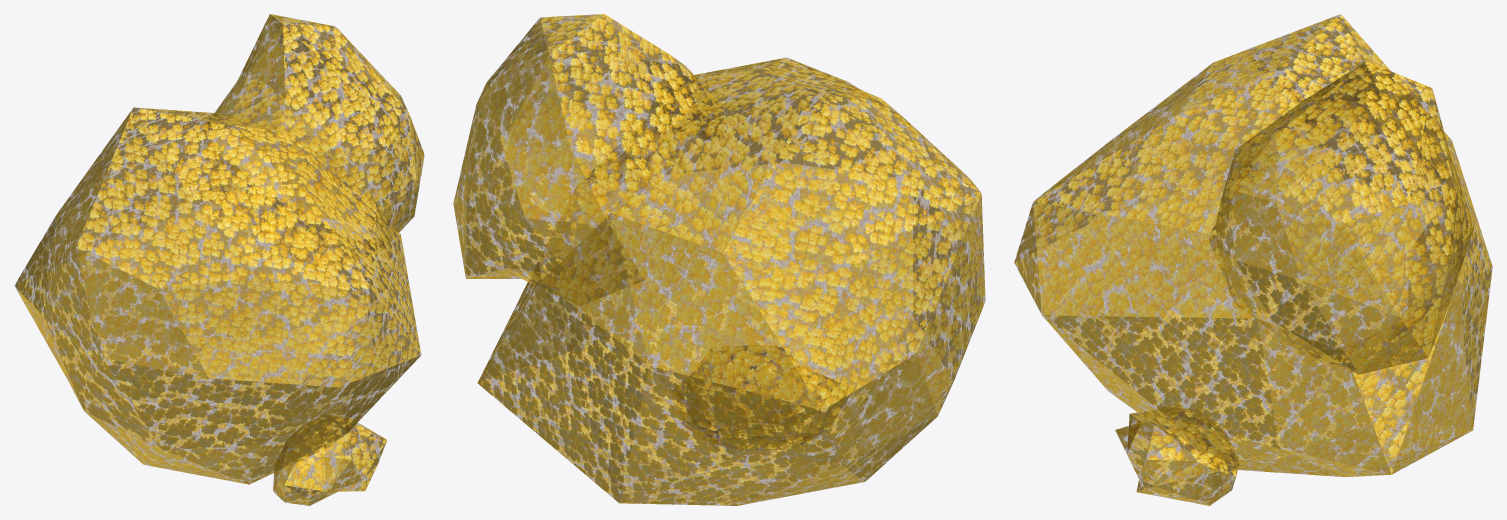
File: tree-yellow.glb
3 views of the same model, side by side, from view 1: azimuth 30°, elevation 25°; view 2: azimuth 150°, elevation 25°; view 3: azimuth 270°, elevation 25° (orthographic). The views are drawn at different scales.
Visible parts, largest first — view 1: Icosphere.007; view 2: Icosphere.007; view 3: Icosphere.007.
Boxes of the visible parts, x1=… form: Icosphere.007: x1=14, y1=14, x2=424, y2=505; Icosphere.007: x1=453, y1=14, x2=985, y2=505; Icosphere.007: x1=1014, y1=14, x2=1492, y2=505.
Size of the model in its own units: 3.01 by 3.13 by 2.96.
Materials: 1 (1 with a texture image).
